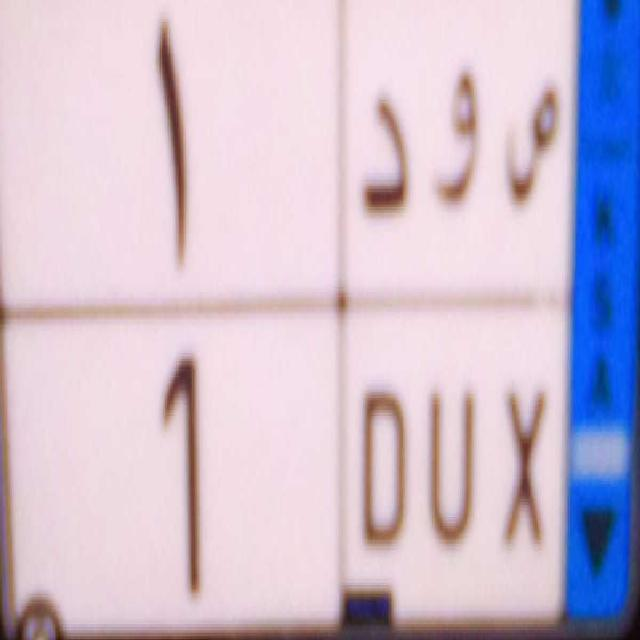license_plate: (0, 302, 570, 640)
